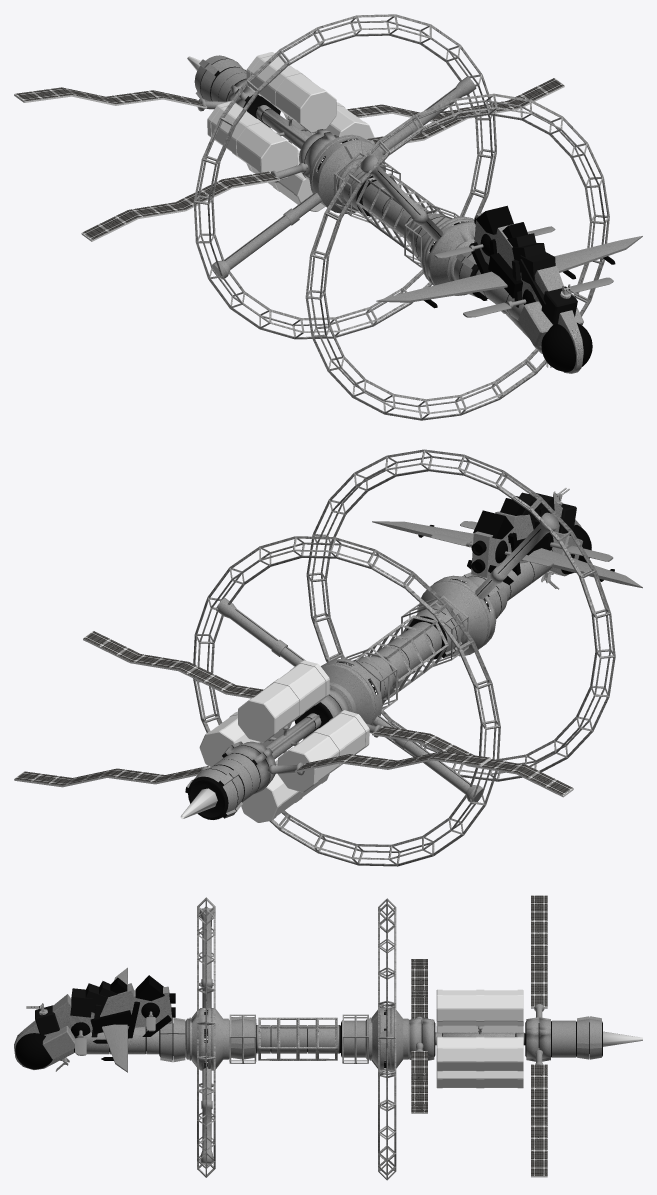
Rendered from ShipResilienceExport.fbx.
The picture shows the model from 3 angles, top to bottom: view 1: azimuth 30°, elevation 25°; view 2: azimuth 150°, elevation 25°; view 3: azimuth 270°, elevation 25°; orthographic projection. The views are drawn at different scales.
Parts seen in each view (by area): view 1: Wheel, Cockpit, Wheel.001, Containers, SolarPanel, CentralModule, SolarPanel.001, Reactor; view 2: Wheel, Wheel.001, Containers, Cockpit, CentralModule, SolarPanel, SolarPanel.001, Reactor; view 3: Cockpit, Containers, Wheel.001, CentralModule, SolarPanel.001, Wheel, SolarPanel, Reactor.
Part boxes in pixels (<box>): Wheel: <box>193,14,496,339</box>; Cockpit: <box>376,205,642,373</box>; Wheel.001: <box>305,93,609,420</box>; Containers: <box>207,52,374,211</box>; SolarPanel: <box>81,78,564,241</box>; CentralModule: <box>334,152,459,267</box>; SolarPanel.001: <box>14,79,483,127</box>; Reactor: <box>194,55,246,101</box>; Wheel: <box>193,536,500,866</box>; Wheel.001: <box>306,449,615,781</box>; Containers: <box>199,660,369,822</box>; Cockpit: <box>372,492,642,619</box>; CentralModule: <box>343,595,468,711</box>; SolarPanel: <box>83,631,573,797</box>; SolarPanel.001: <box>14,741,491,793</box>; Reactor: <box>185,753,259,819</box>; Cockpit: <box>14,967,185,1072</box>; Containers: <box>435,989,525,1088</box>; Wheel.001: <box>185,897,229,1177</box>; CentralModule: <box>229,1014,368,1063</box>; SolarPanel.001: <box>525,895,551,1177</box>; Wheel: <box>365,898,409,1180</box>; SolarPanel: <box>409,959,435,1113</box>; Reactor: <box>551,1016,602,1059</box>.
Bounding box in the file's own units: 2129 × 1377 × 3049.
